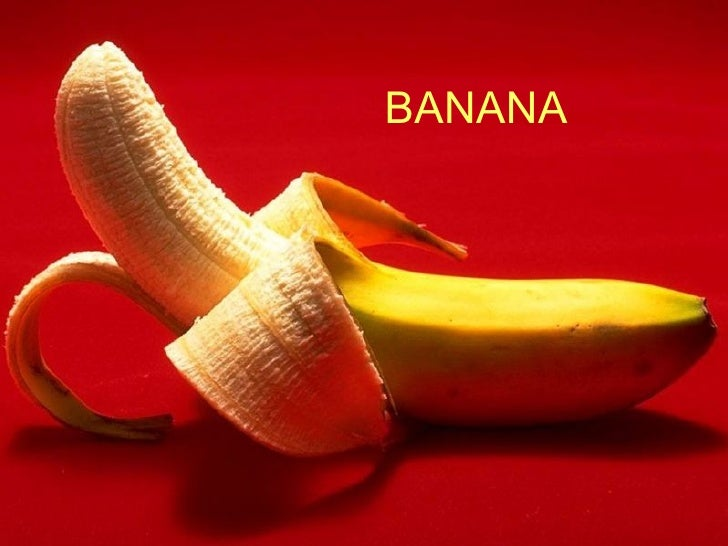looks_good: (21, 26, 728, 486)
